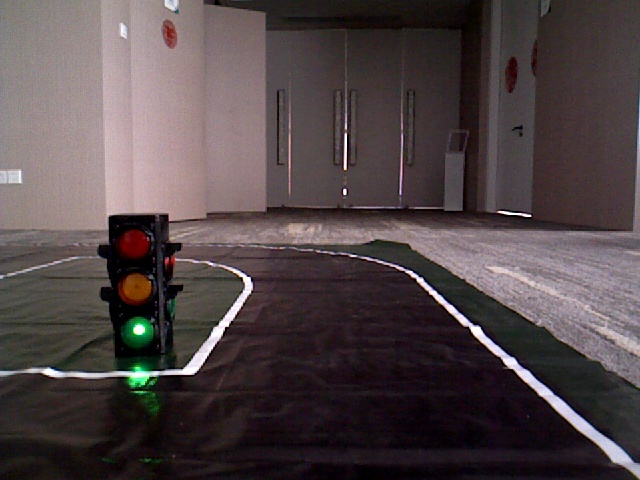green: (109, 220, 163, 361)
